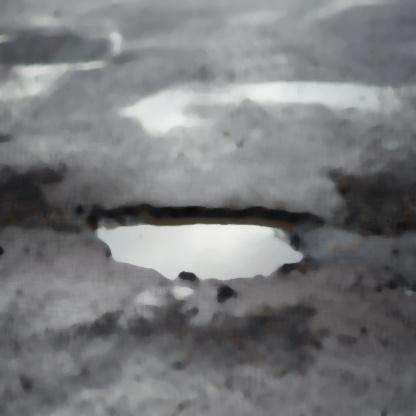Potholes: (103, 184, 312, 291)
